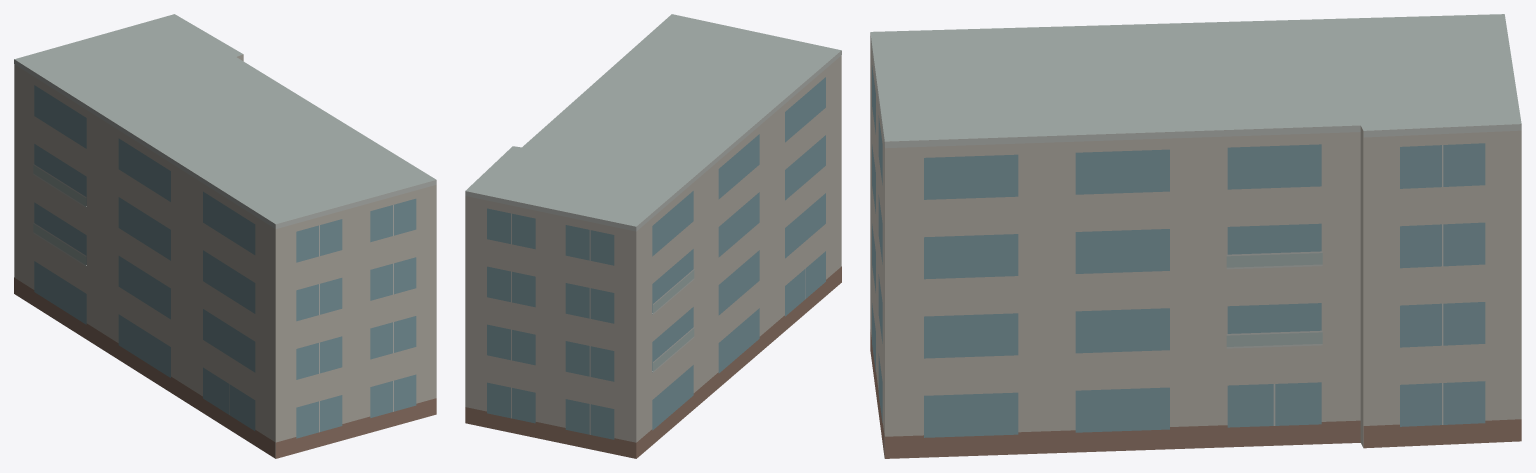
The model's file is survey-upis-32943620.glb.
3 renders of one model, left to right at view 1: azimuth 30°, elevation 25°; view 2: azimuth 150°, elevation 25°; view 3: azimuth 270°, elevation 25°, orthographic. The views are drawn at different scales.
Visible parts, largest first — view 1: survey-upis-32943620.tmp; view 2: survey-upis-32943620.tmp; view 3: survey-upis-32943620.tmp.
Boxes of the visible parts, <box> form: survey-upis-32943620.tmp: <box>14,14,436,458</box>; survey-upis-32943620.tmp: <box>465,14,841,458</box>; survey-upis-32943620.tmp: <box>870,14,1521,458</box>.
Bounding box in the file's own units: 10.1 × 11.7 × 21.78.
